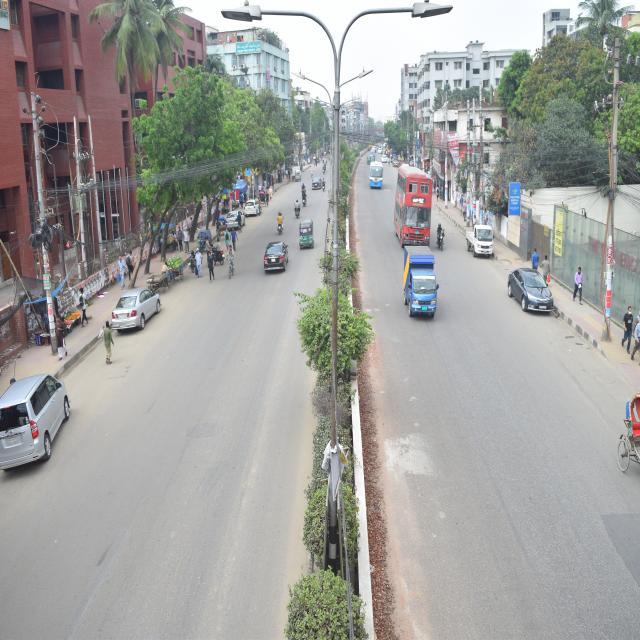bus: (394, 160, 436, 255), (368, 157, 387, 195)
car: (0, 375, 101, 478), (105, 280, 175, 337), (505, 260, 562, 321), (259, 230, 292, 287), (242, 191, 270, 229), (223, 205, 247, 240), (309, 174, 325, 197)
motorbike: (437, 216, 454, 262), (208, 228, 226, 269), (271, 209, 285, 234), (318, 155, 326, 175), (295, 196, 301, 220), (300, 186, 306, 210)
pickup-van: (395, 228, 448, 320), (465, 215, 494, 258)
